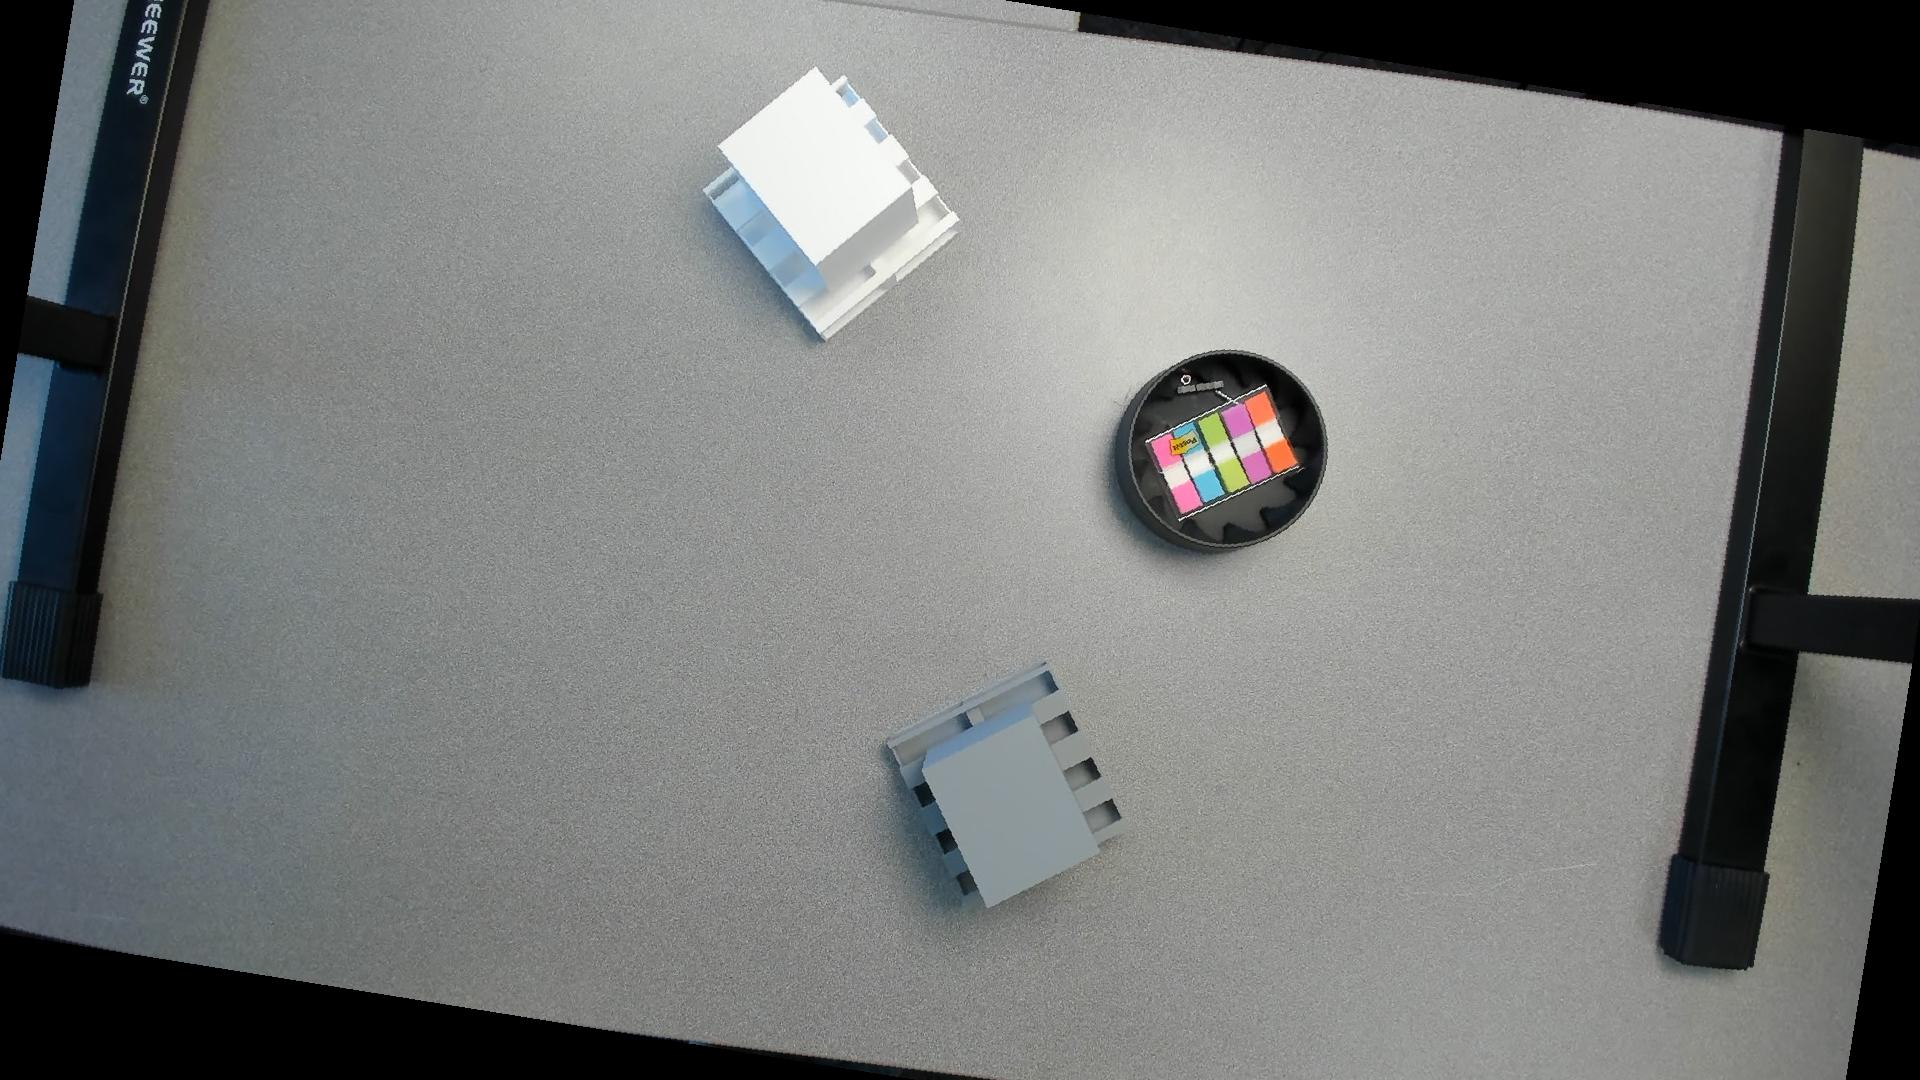grey pallet: (878, 646, 1139, 922)
white pallet: (694, 59, 992, 361)
